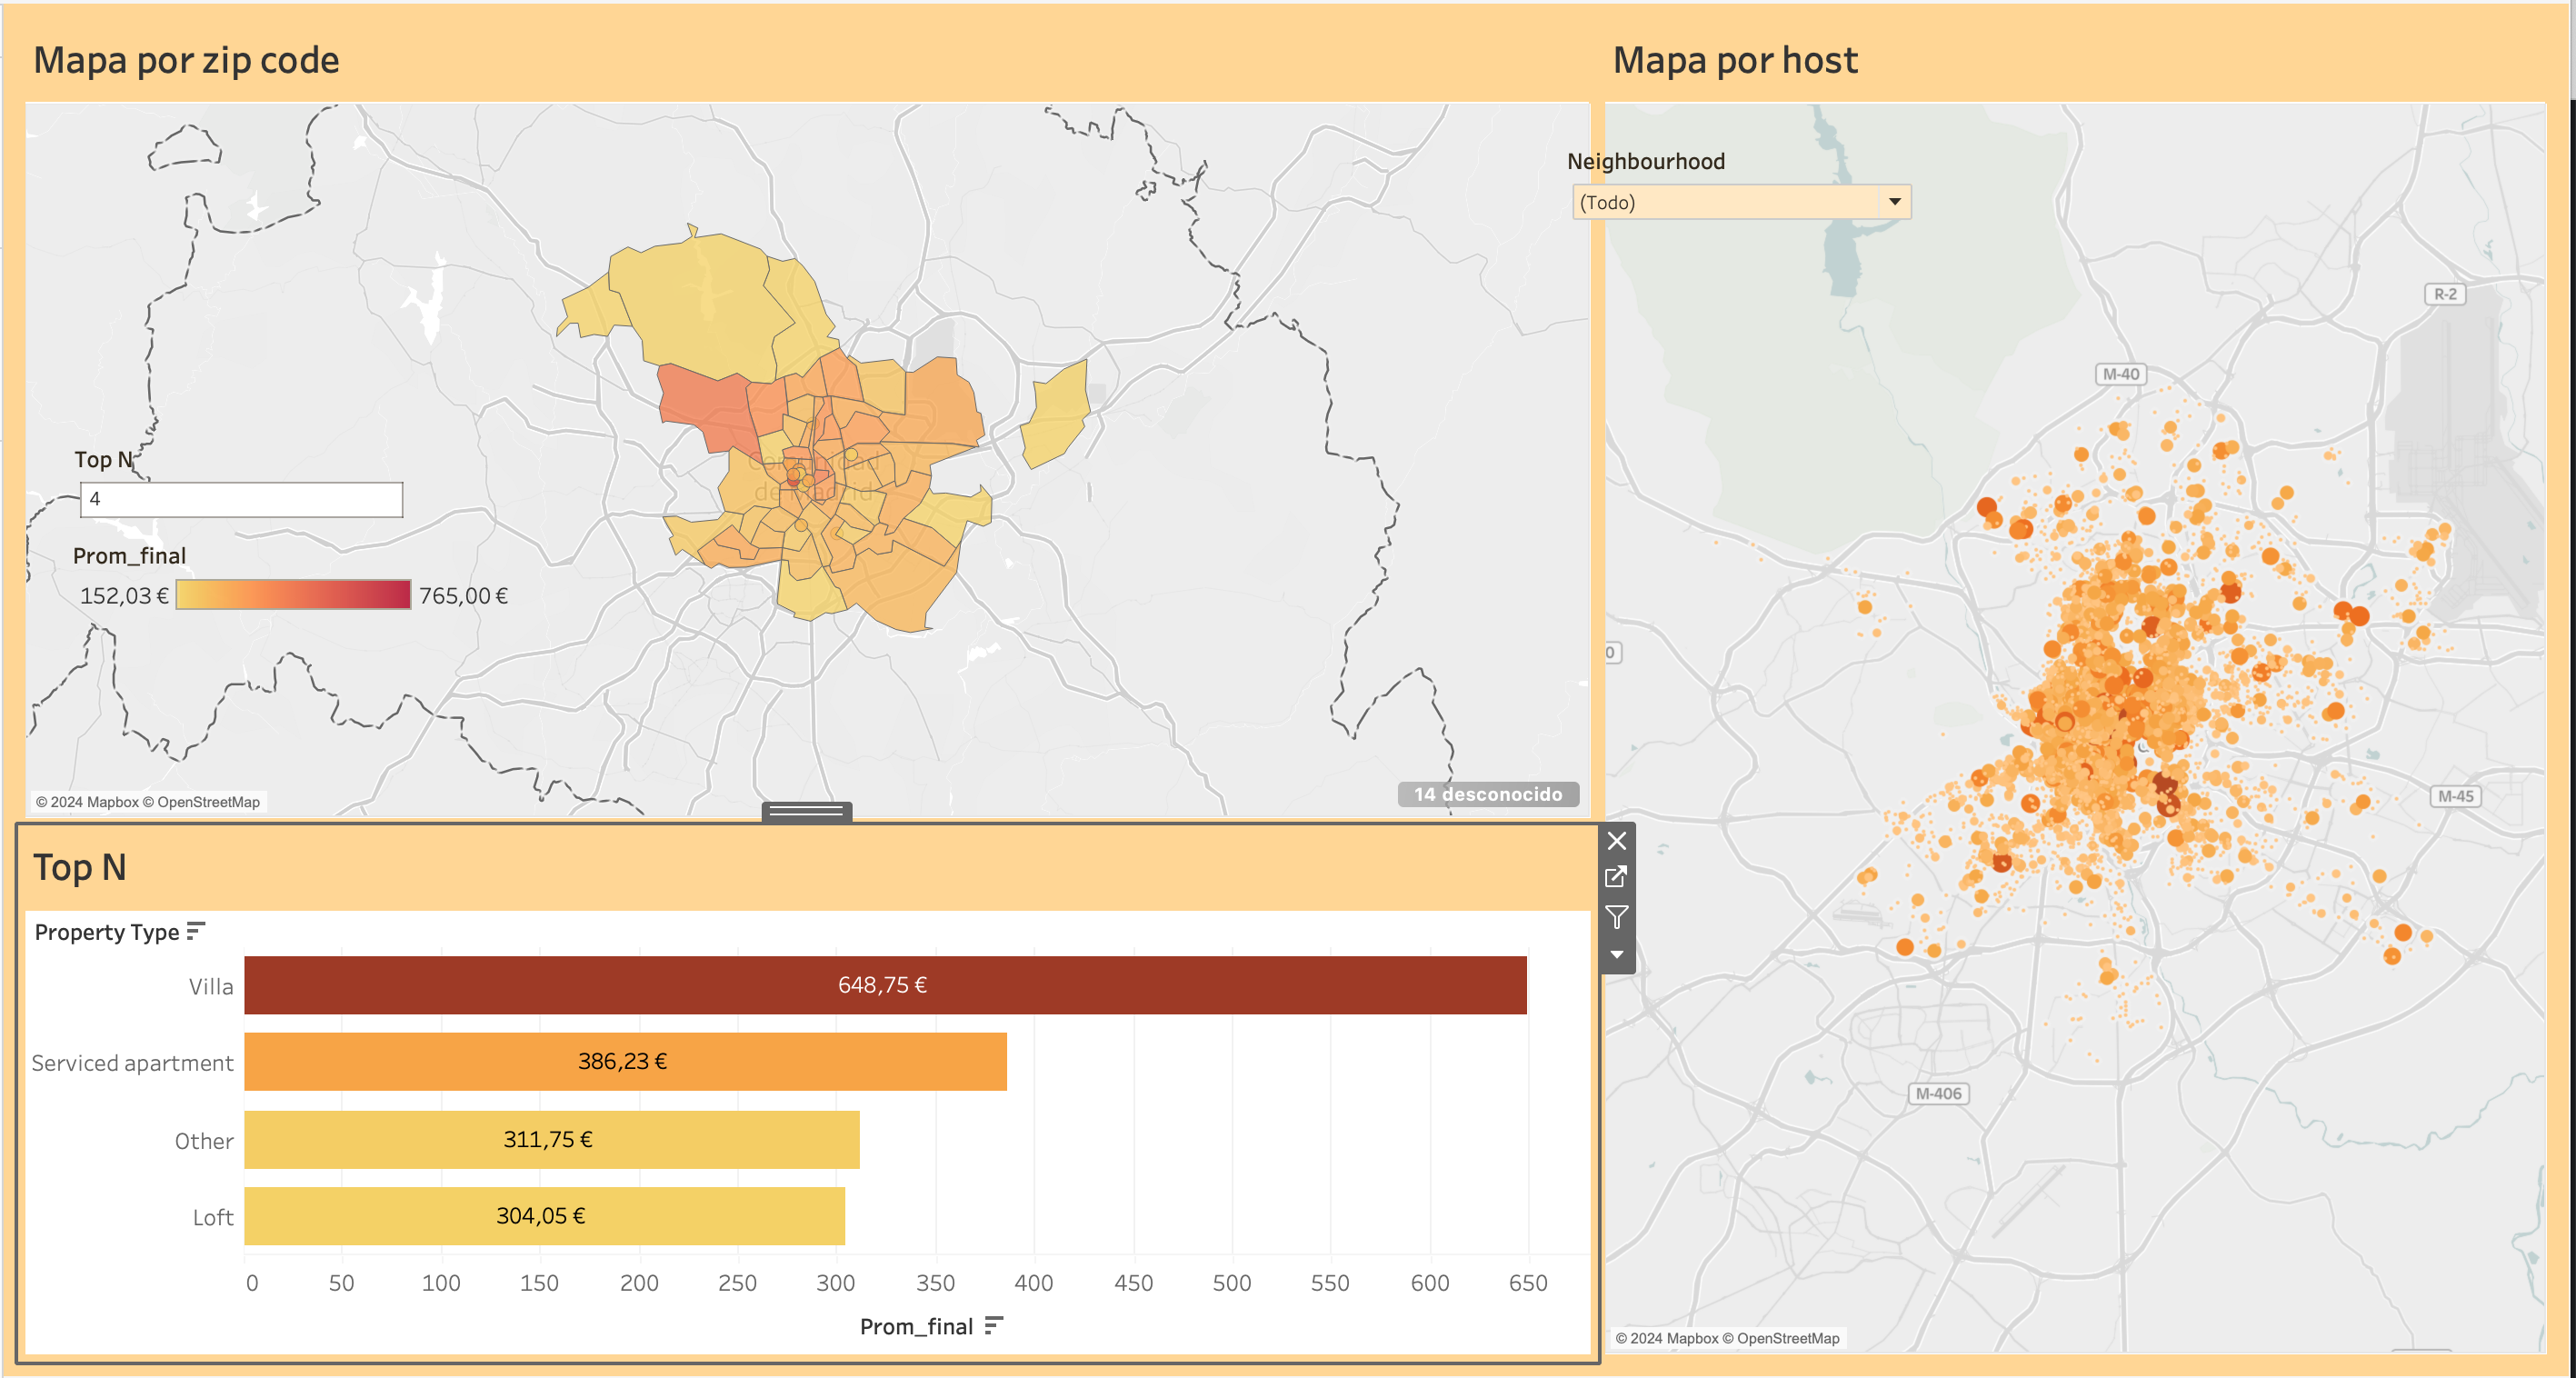

What the dashboard file says about the page in this screenshot:
{"tool":"tableau","page":{"name":"Dashboard 1","canvas":[1000,1000],"units":"permille","ordinal":0},"visuals":[{"type":"worksheet","title":"Mapa por zipcode","mark":"Multipolygon","rows":["Calculation_1114429807922417667"],"cols":["Calculation_1114429807922765828"],"box":[5.7,10.6,615.9,588.1]},{"type":"worksheet","title":"Mapa por host","mark":"Circle","rows":["Calculation_1114429807922417667"],"cols":["Calculation_1114429807922765828"],"box":[621.5,10.6,372.8,978.8]},{"type":"parameter","param":"[Parameters].[Parámetro 1]","box":[27.7,320.5,130.5,58.3]},{"type":"legend","title":"Mapa por zipcode","param":"[federated.03pet9n18c276p13im8nt1wa4kpv].[usr:Calculation_1114429808266158086:qk","box":[26.9,390.7,173.7,100.7]},{"type":"worksheet","title":"Top N","mark":"Automatic","rows":["Property Type"],"cols":["Calculation_1114429808266158086"],"box":[5.7,598.7,615.9,390.7]},{"type":"filter","title":"Mapa por host","param":"[federated.03pet9n18c276p13im8nt1wa4kpv].[none:Neighbourhood:nk]","box":[639.3,875.5,136.8,68.9]}]}

Visuals, with their boxes on the dashboard's canvas, which has no fixed pixel size, in thousandths of its width and height (x1, y1, x2, y2). These are canvas units, not pixel positions in the 2576x1378 screenshot, which may show the page scaled, cropped or inside an application window:
"Mapa por zipcode" worksheet (Multipolygon marks): <bbox>6, 11, 622, 599</bbox>
"Mapa por host" worksheet (Circle marks): <bbox>622, 11, 994, 989</bbox>
parameter: <bbox>28, 320, 158, 379</bbox>
"Mapa por zipcode" legend: <bbox>27, 391, 201, 491</bbox>
"Top N" worksheet: <bbox>6, 599, 622, 989</bbox>
"Mapa por host" filter: <bbox>639, 876, 776, 944</bbox>
